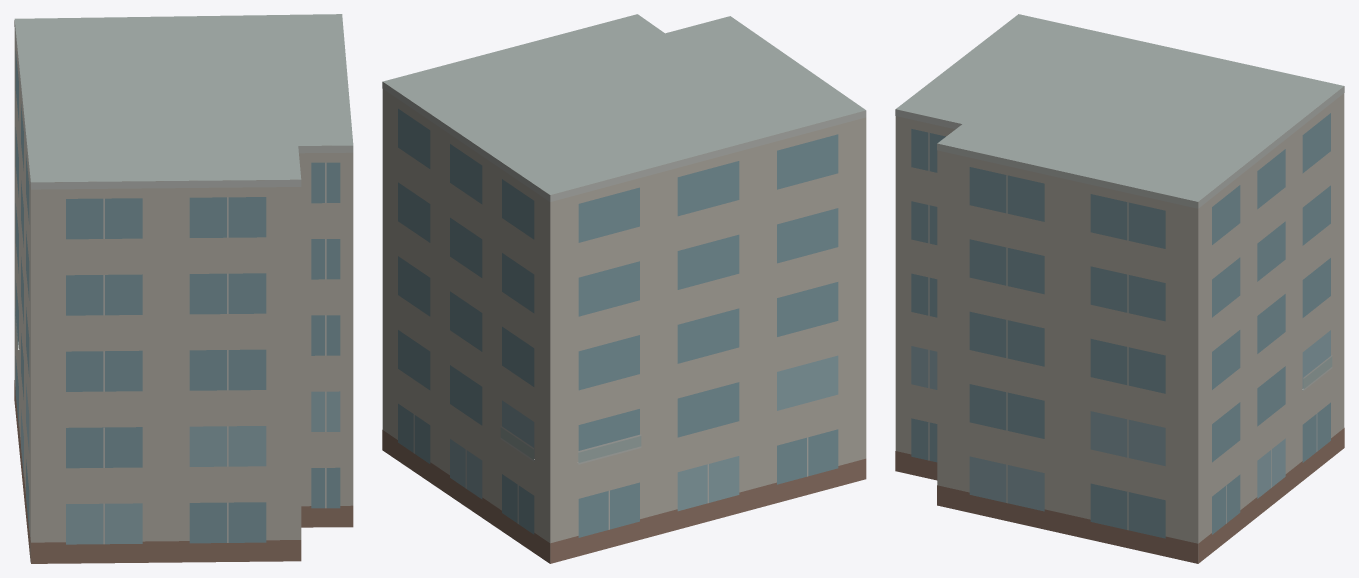
The model's file is survey-upis-33039443.glb.
3 views of the same model, side by side, from view 1: azimuth 30°, elevation 25°; view 2: azimuth 150°, elevation 25°; view 3: azimuth 270°, elevation 25° (orthographic). The views are drawn at different scales.
Parts seen in each view (by area): view 1: survey-upis-33039443.tmp; view 2: survey-upis-33039443.tmp; view 3: survey-upis-33039443.tmp.
Boxes of the visible parts, <box> form: survey-upis-33039443.tmp: <box>14,14,353,563</box>; survey-upis-33039443.tmp: <box>382,14,866,563</box>; survey-upis-33039443.tmp: <box>895,14,1344,563</box>.
Size of the model in its own units: 14.34 by 12.87 by 14.48.
